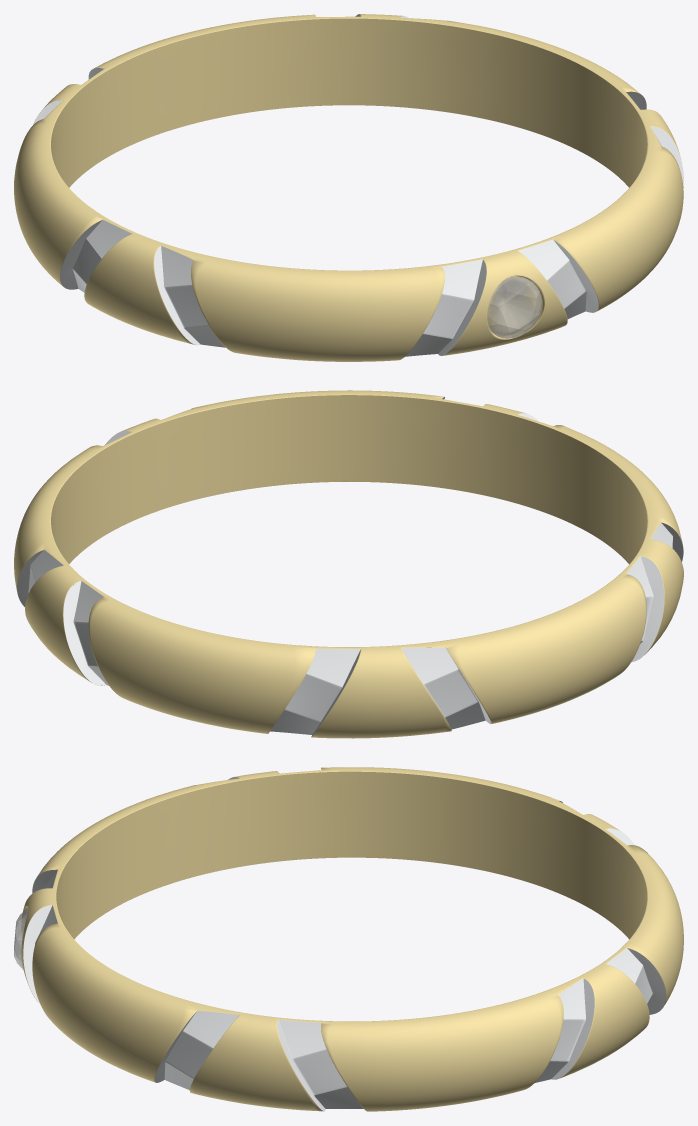
File: 258_2.0mmS2.glb
3 views of the same model, one above another, from view 1: azimuth 30°, elevation 25°; view 2: azimuth 150°, elevation 25°; view 3: azimuth 270°, elevation 25° (orthographic).
Visible parts, largest first — view 1: Base_Metal, Engraving_Metal, Finishing_Metal, Diamond_Metal; view 2: Base_Metal, Engraving_Metal, Finishing_Metal; view 3: Base_Metal, Engraving_Metal, Finishing_Metal.
Part boxes in pixels (left/top/right/bottom): Base_Metal: left=14, top=14, right=683, bottom=361; Engraving_Metal: left=51, top=18, right=647, bottom=187; Finishing_Metal: left=33, top=14, right=683, bottom=356; Diamond_Metal: left=487, top=276, right=542, bottom=338; Base_Metal: left=14, top=390, right=683, bottom=738; Engraving_Metal: left=51, top=395, right=647, bottom=647; Finishing_Metal: left=17, top=397, right=683, bottom=736; Base_Metal: left=21, top=767, right=683, bottom=1111; Engraving_Metal: left=56, top=771, right=647, bottom=939; Finishing_Metal: left=23, top=771, right=665, bottom=1111.
Bounding box in the file's own units: 2.8 × 0.4 × 2.82.
